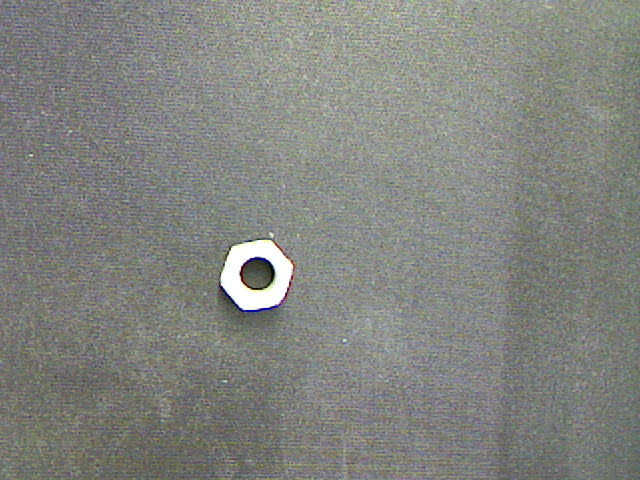Nut: (220, 238, 296, 313)
